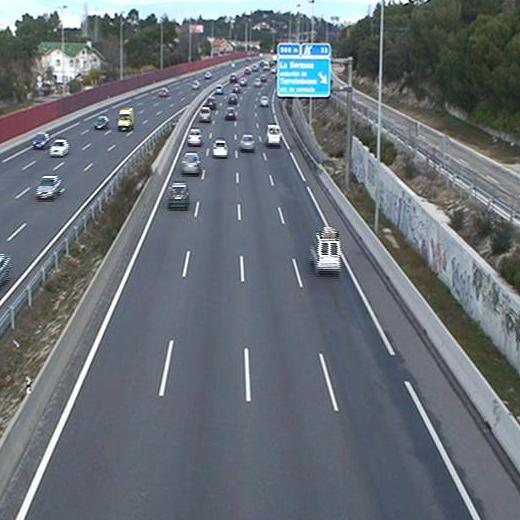car: (166, 182, 190, 209), (181, 153, 201, 174), (211, 139, 229, 156), (187, 129, 203, 144), (240, 135, 255, 150), (199, 107, 211, 121), (224, 107, 236, 118), (260, 94, 269, 106), (228, 93, 238, 103)
van: (311, 227, 341, 273), (265, 125, 281, 143)
